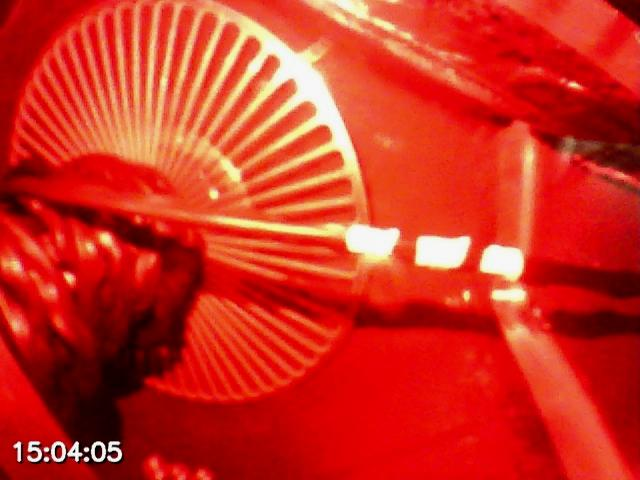white-dots: (345, 222, 525, 284)
